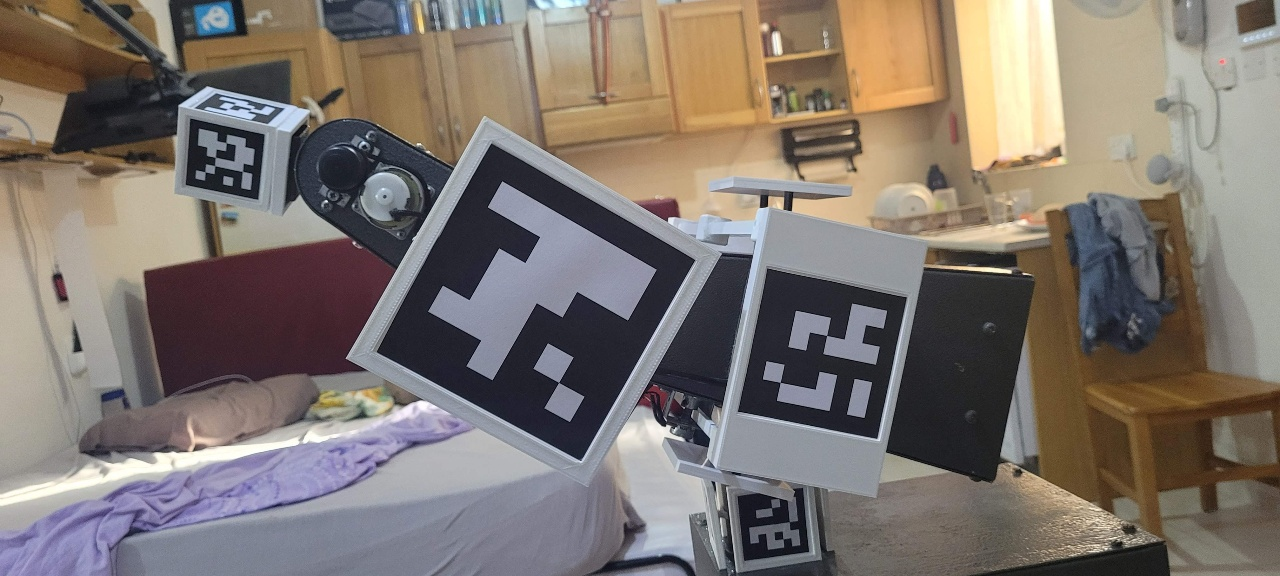Robot: (174, 85, 1038, 576)
